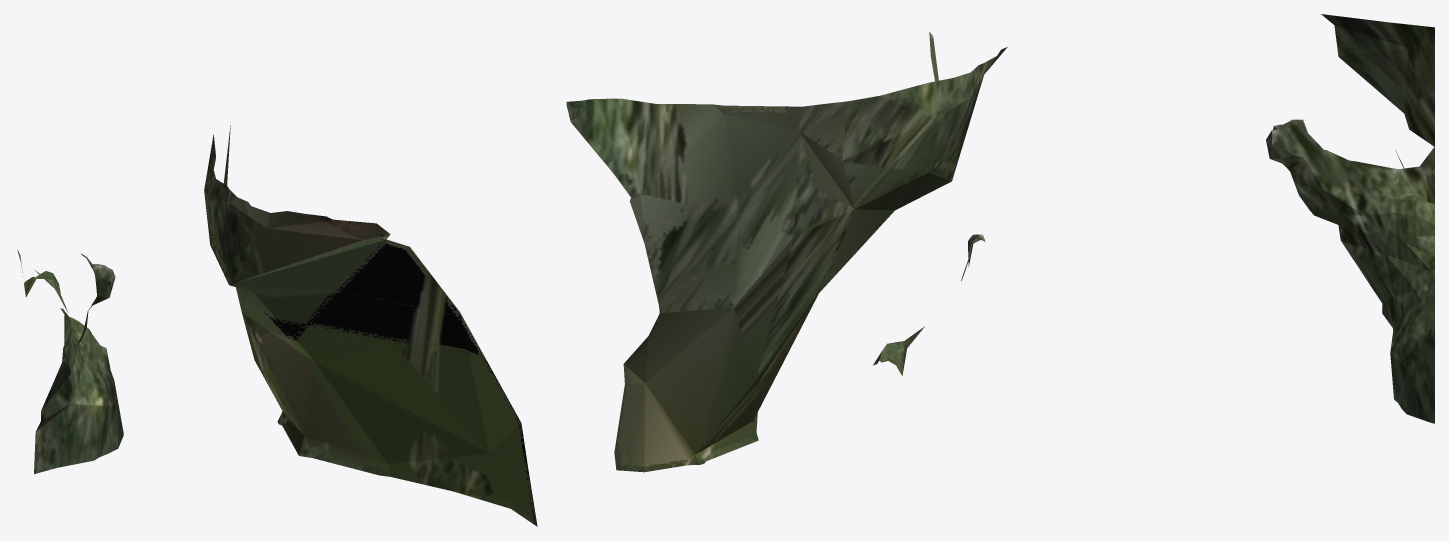
3 views of the same model, side by side, from view 1: azimuth 30°, elevation 25°; view 2: azimuth 150°, elevation 25°; view 3: azimuth 270°, elevation 25° (orthographic).
Bounding box in the file's own units: 5.9 × 5.9 × 5.9.
Materials: 4 (4 with a texture image).
